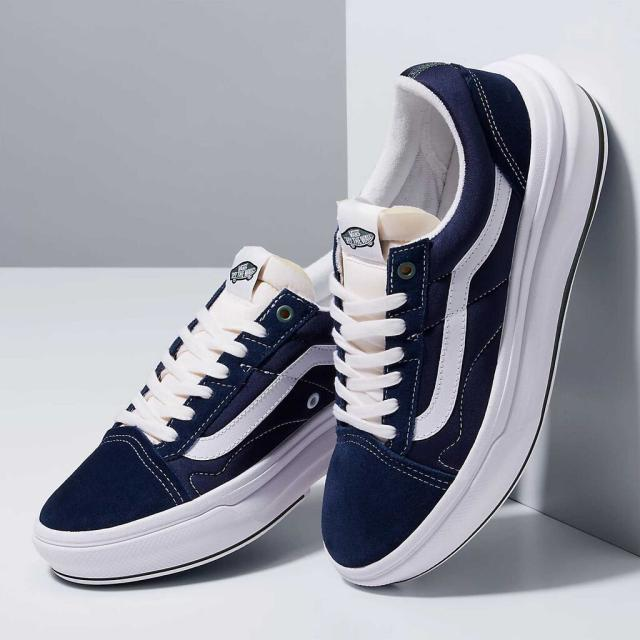shoe: (310, 50, 613, 590), (35, 232, 352, 584)
